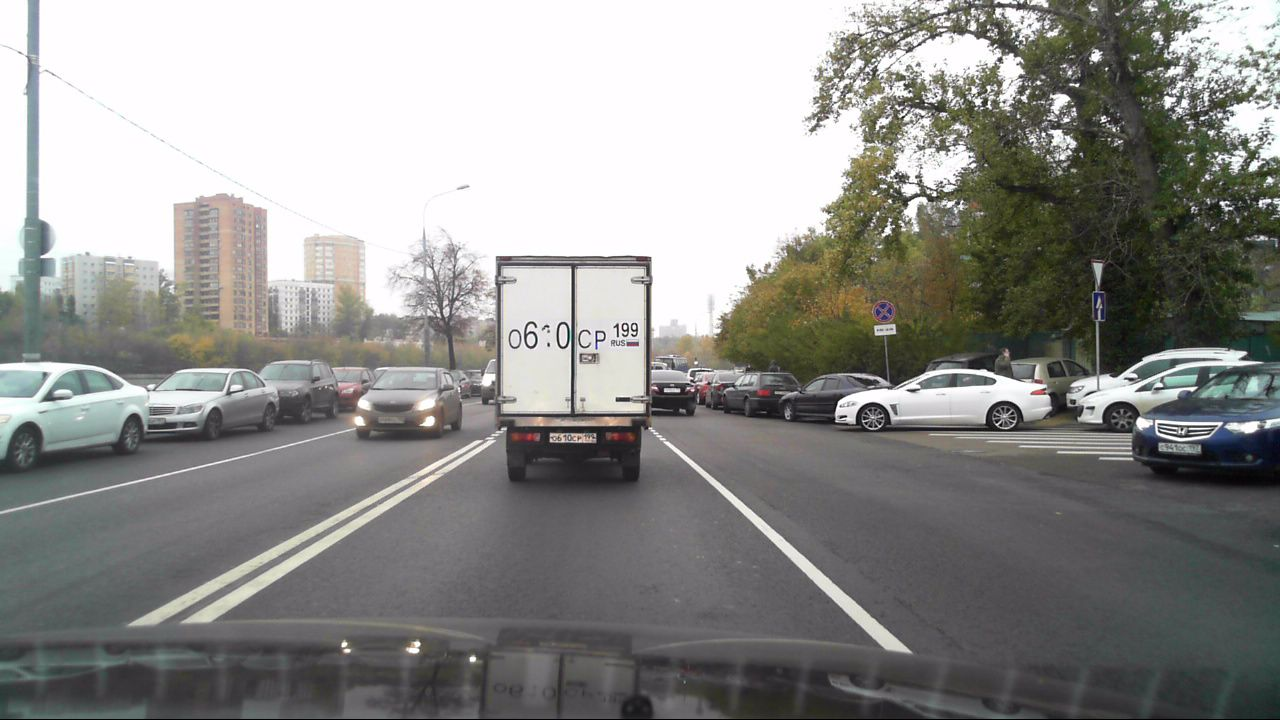No Parking: (872, 300, 894, 322)
